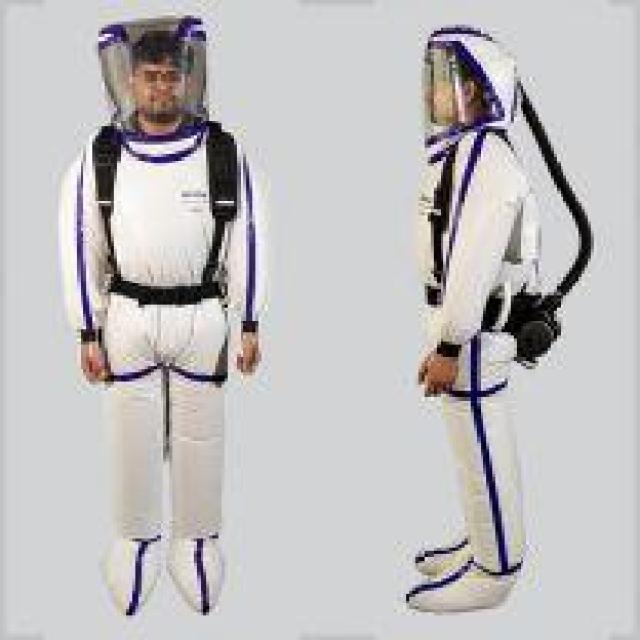Coverall: (16, 3, 342, 631), (351, 9, 612, 637)
